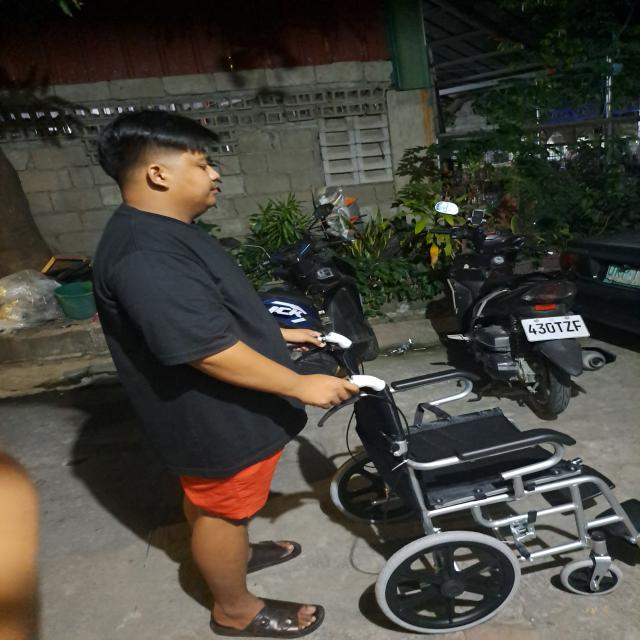wheelchairs: (298, 329, 640, 638)
